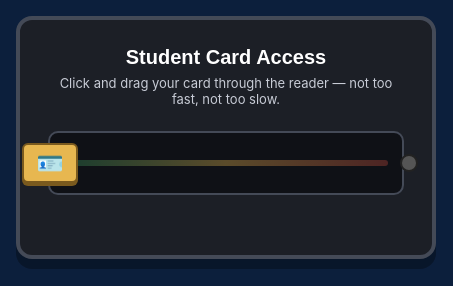
Test: Closing Scene - card swipe mini-game › accepts a complete swipe performed at a valid speed
Press the mouse on the text "🪪" at (50, 162), box [22,142,78,182]
Wait 650 ms
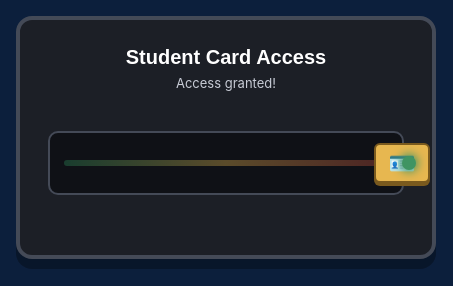
Expected: the text "Access granted!" is shown, [176,74,276,90]
